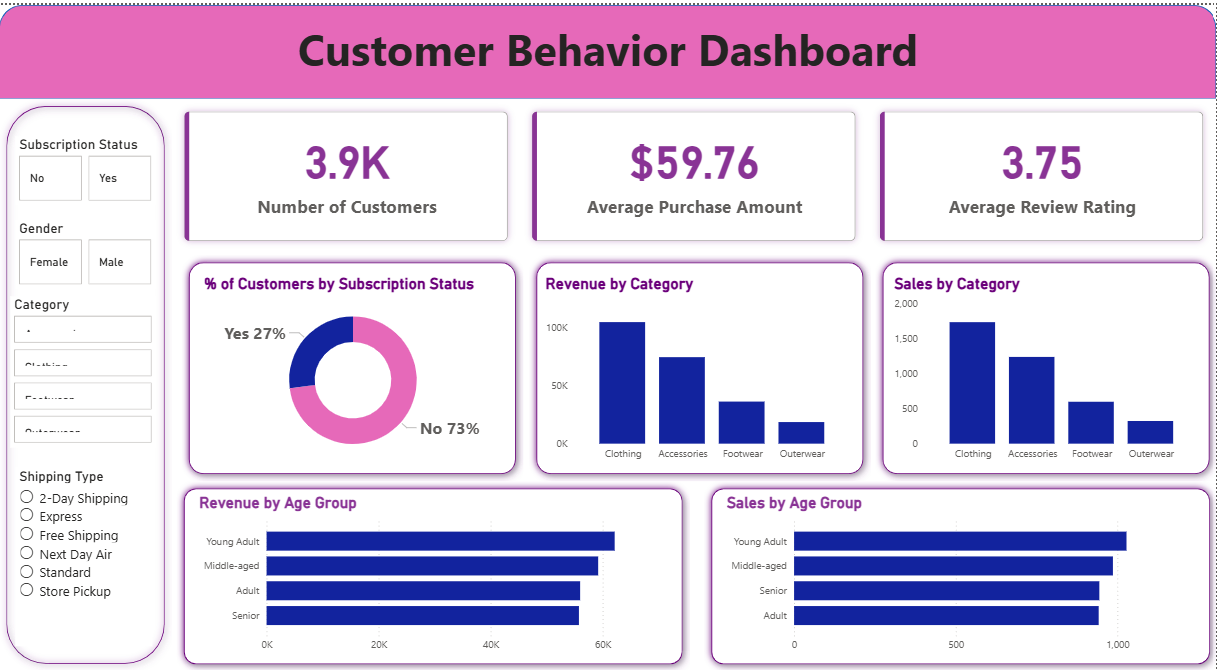

This screenshot's page, from the dashboard's own definition file:
{"tool":"powerbi","page":{"name":"Page 1","canvas":[1650,900],"ordinal":0},"visuals":[{"type":"shape","title":"Revenue by Age Group","box":[967.5,690,662.5,200],"z":0},{"type":"shape","title":"Revenue by Age Group","box":[265,690,662.5,200],"z":1000},{"type":"shape","box":[1196.5,417.5,431.6,273.7],"z":2000},{"type":"shape","box":[264.9,417.5,433.3,273.7],"z":3000},{"type":"cardVisual","fields":{"Data":["public customer.Number of Customers","public customer.Average Purchase amount","public customer.Average Review Rating"]},"box":[246.5,169.8,1404.7,246.5],"z":4000},{"type":"shape","box":[0,44.2,1651.2,125.6],"z":5000},{"type":"textbox","box":[167.4,67.4,1260.5,102.3],"z":6000},{"type":"shape","box":[733.3,417.5,431.6,273.7],"z":7000},{"type":"donutChart","title":"% of Customers by Subscription Status","fields":{"Category":["public customer.subscription_status","public customer.category"],"Y":["CountNonNull(public customer.customer_id)","Sum(public customer.purchase_amount)"]},"box":[284.2,436.8,396.5,238.6],"z":8000},{"type":"clusteredColumnChart","title":"Revenue by Category","fields":{"Category":["public customer.category"],"Y":["Sum(public customer.purchase_amount)"]},"box":[750.9,433.3,396.5,242.1],"z":9000},{"type":"clusteredColumnChart","title":"Sales by Category","fields":{"Category":["public customer.category"],"Y":["CountNonNull(public customer.customer_id)"]},"box":[1214,433.3,396.5,242.1],"z":10000},{"type":"shape","box":[20,185,226.7,701.7],"z":11000},{"type":"advancedSlicerVisual","fields":{"Values":["public customer.subscription_status"]},"box":[50,198.3,166.7,80],"z":12000},{"type":"advancedSlicerVisual","fields":{"Values":["public customer.category"]},"box":[48.3,416.7,166.7,233.3],"z":13000},{"type":"listSlicer","fields":{"Values":["public customer.shipping_type"]},"box":[50,658.3,166.7,211.7],"z":14000},{"type":"clusteredBarChart","title":"Revenue by Age Group","fields":{"Y":["Sum(public customer.purchase_amount)"],"Category":["public customer.age_group"]},"box":[295,702.5,605,175],"z":15000},{"type":"cardVisual","title":"Gender","fields":{"Rows":["public customer.gender"]},"box":[48.3,278.3,181.7,138.3],"z":16000},{"type":"clusteredBarChart","title":"Sales by Age Group","fields":{"Y":["CountNonNull(public customer.customer_id)"],"Category":["public customer.age_group"]},"box":[1007.5,702.5,605,175],"z":17000}]}

Visuals, with their boxes in screenshot pixels (x1, y1, x2, y2), scaled from the page's 1650x900 canvas onto the 1217x670 screenshot:
"Revenue by Age Group" shape: <region>714, 514, 1202, 663</region>
"Revenue by Age Group" shape: <region>195, 514, 684, 663</region>
shape: <region>883, 311, 1201, 515</region>
shape: <region>195, 311, 515, 515</region>
cardVisual - public customer.Number of Customers x public customer.Average Purchase amount: <region>182, 126, 1216, 310</region>
shape: <region>0, 33, 1216, 126</region>
textbox: <region>123, 50, 1053, 126</region>
shape: <region>541, 311, 859, 515</region>
"% of Customers by Subscription Status" donutChart: <region>210, 325, 502, 503</region>
"Revenue by Category" clusteredColumnChart: <region>554, 323, 846, 503</region>
"Sales by Category" clusteredColumnChart: <region>895, 323, 1188, 503</region>
shape: <region>15, 138, 182, 660</region>
advancedSlicerVisual - public customer.subscription_status: <region>37, 148, 160, 207</region>
advancedSlicerVisual - public customer.category: <region>36, 310, 159, 484</region>
listSlicer - public customer.shipping_type: <region>37, 490, 160, 648</region>
"Revenue by Age Group" clusteredBarChart: <region>218, 523, 664, 653</region>
"Gender" cardVisual: <region>36, 207, 170, 310</region>
"Sales by Age Group" clusteredBarChart: <region>743, 523, 1189, 653</region>
